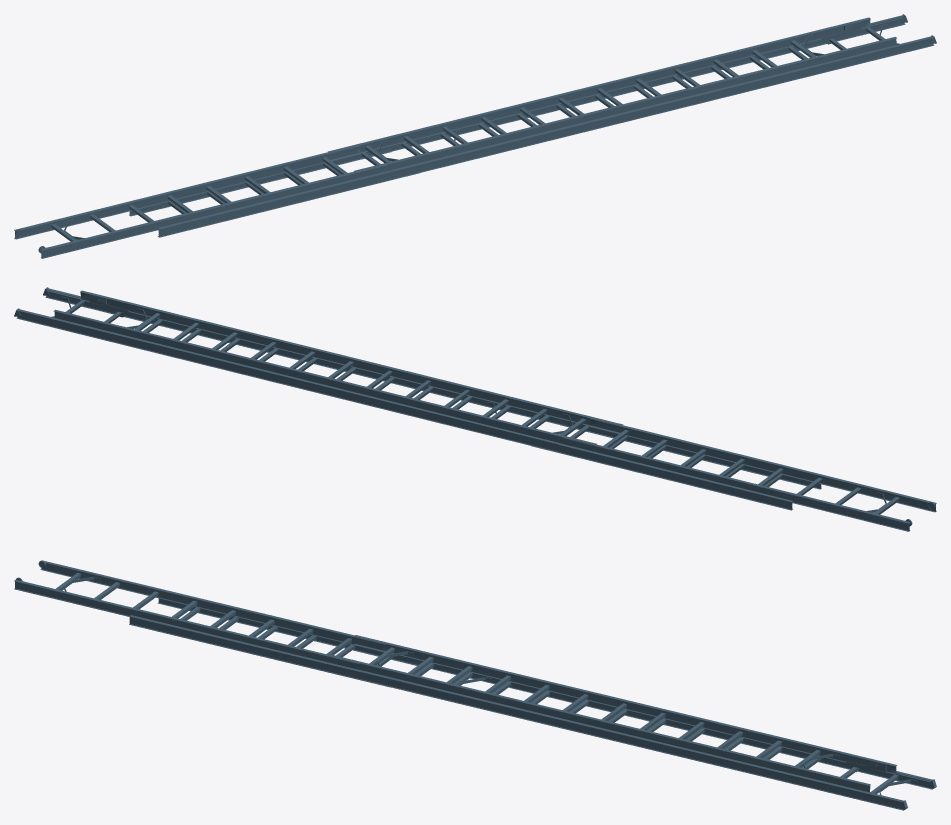
Rendered from pickup_ladder.glb.
The picture shows the model from 3 angles, top to bottom: view 1: azimuth 30°, elevation 25°; view 2: azimuth 150°, elevation 25°; view 3: azimuth 330°, elevation 25°; orthographic projection.
Visible parts, largest first — view 1: body; view 2: body; view 3: body.
Boxes of the visible parts, x1,y1,x2,y2 form: body: (14, 14, 936, 258); body: (14, 287, 936, 531); body: (14, 560, 936, 810).
Size of the model in its own units: 4.4 by 0.087 by 0.2643.
